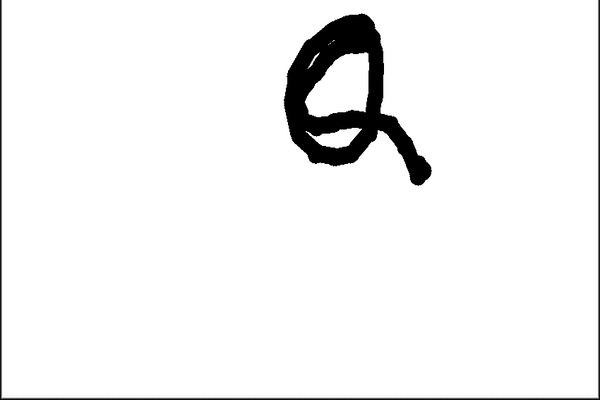Q: (274, 10, 416, 177)
